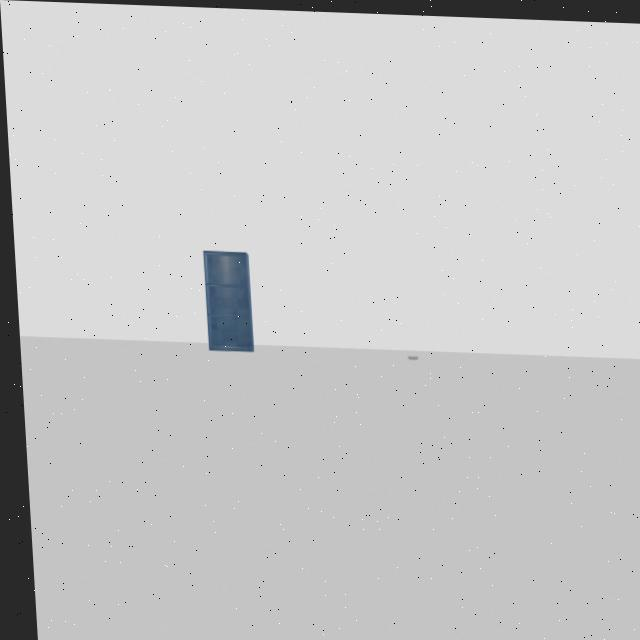bowl: (398, 345, 424, 368)
shelf: (187, 240, 259, 365)
